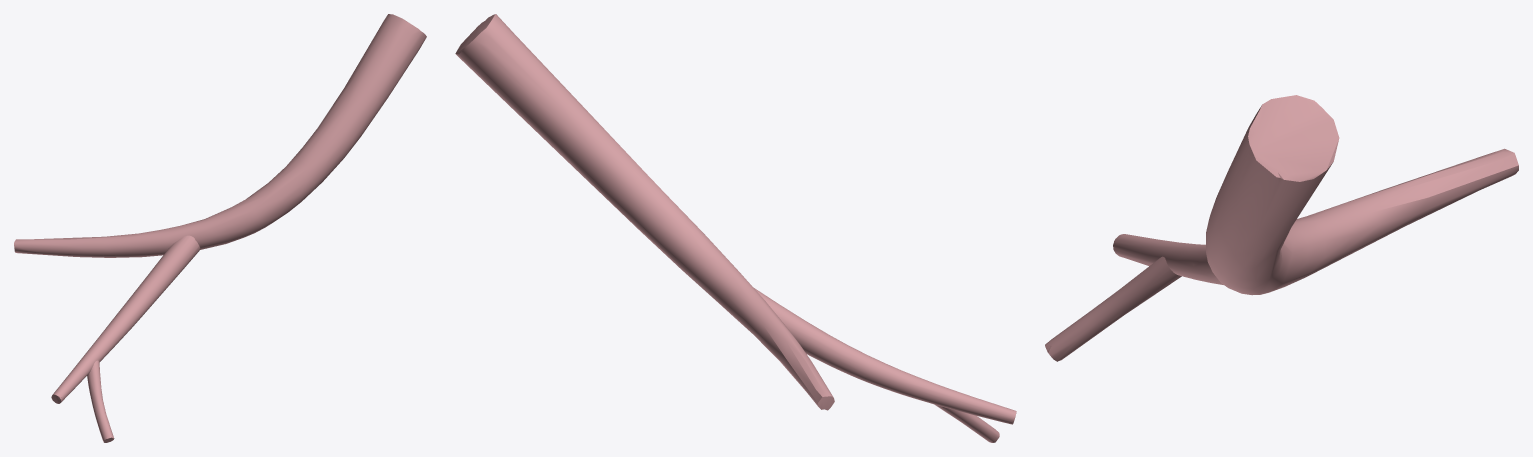
The model's file is fma68321_cx171.glb.
3 renders of one model, left to right at view 1: azimuth 30°, elevation 25°; view 2: azimuth 150°, elevation 25°; view 3: azimuth 270°, elevation 25°, orthographic. The views are drawn at different scales.
Visible parts, largest first — view 1: FMA68321_CX171; view 2: FMA68321_CX171; view 3: FMA68321_CX171.
Boxes of the visible parts, box(x1,y1,x2,y2) form: FMA68321_CX171: box(14, 14, 426, 442); FMA68321_CX171: box(455, 14, 1016, 442); FMA68321_CX171: box(1045, 95, 1518, 361).
Bounding box in the file's own units: 0.0815 × 0.0571 × 0.0408.
